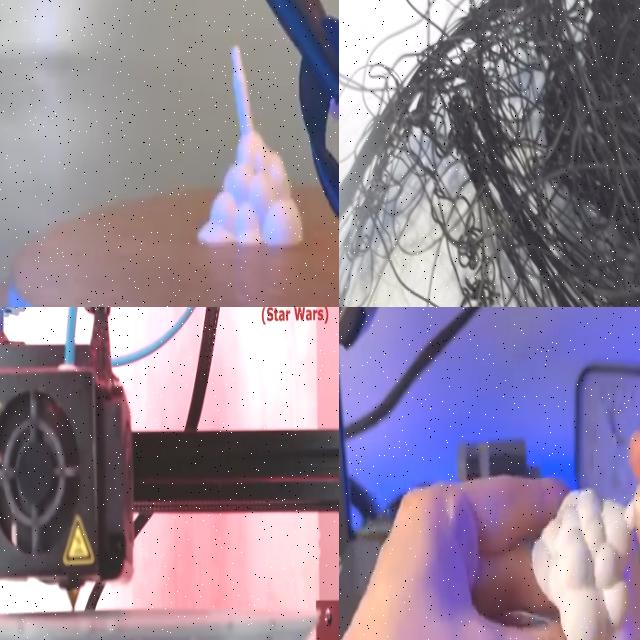spaghetti: (339, 0, 640, 307)
